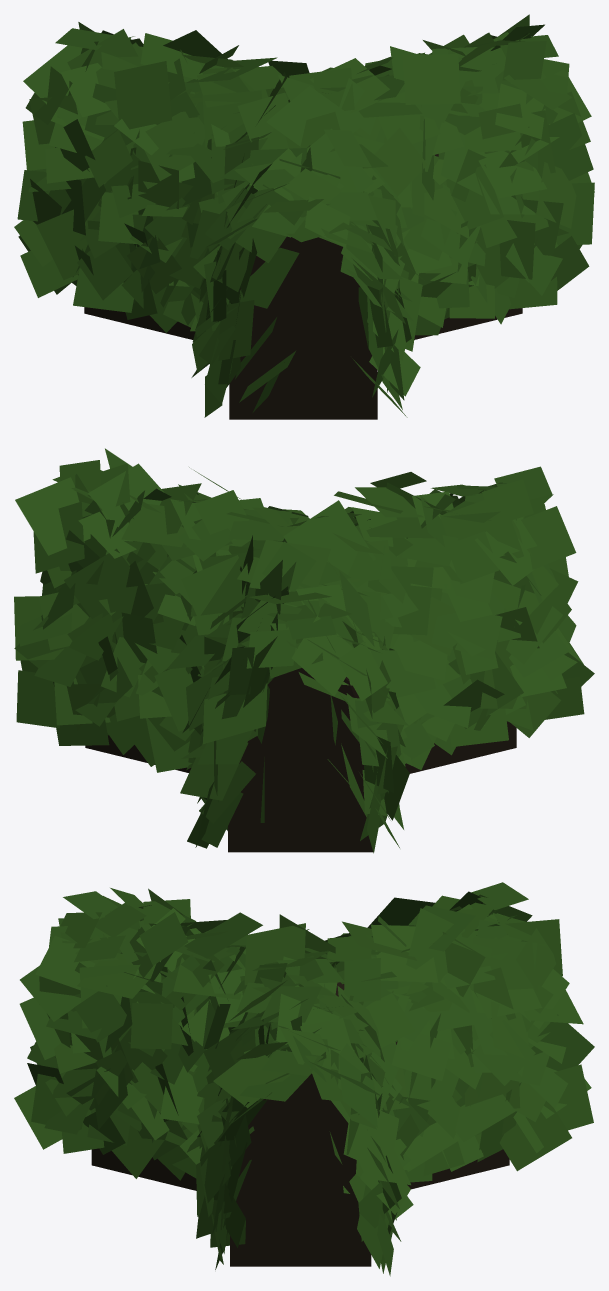
File: hedge_junction.glb
The picture shows the model from 3 angles, top to bottom: view 1: azimuth 30°, elevation 25°; view 2: azimuth 150°, elevation 25°; view 3: azimuth 270°, elevation 25°; orthographic projection. The views are drawn at different scales.
Parts seen in each view (by area): view 1: hedge_junction_lod0; view 2: hedge_junction_lod0; view 3: hedge_junction_lod0.
Part boxes in pixels (<box>): hedge_junction_lod0: <box>14,14,594,419</box>; hedge_junction_lod0: <box>14,448,594,853</box>; hedge_junction_lod0: <box>14,882,594,1276</box>.
Size of what is drawn, in the model's own units: 4.27 by 2.39 by 4.93.
